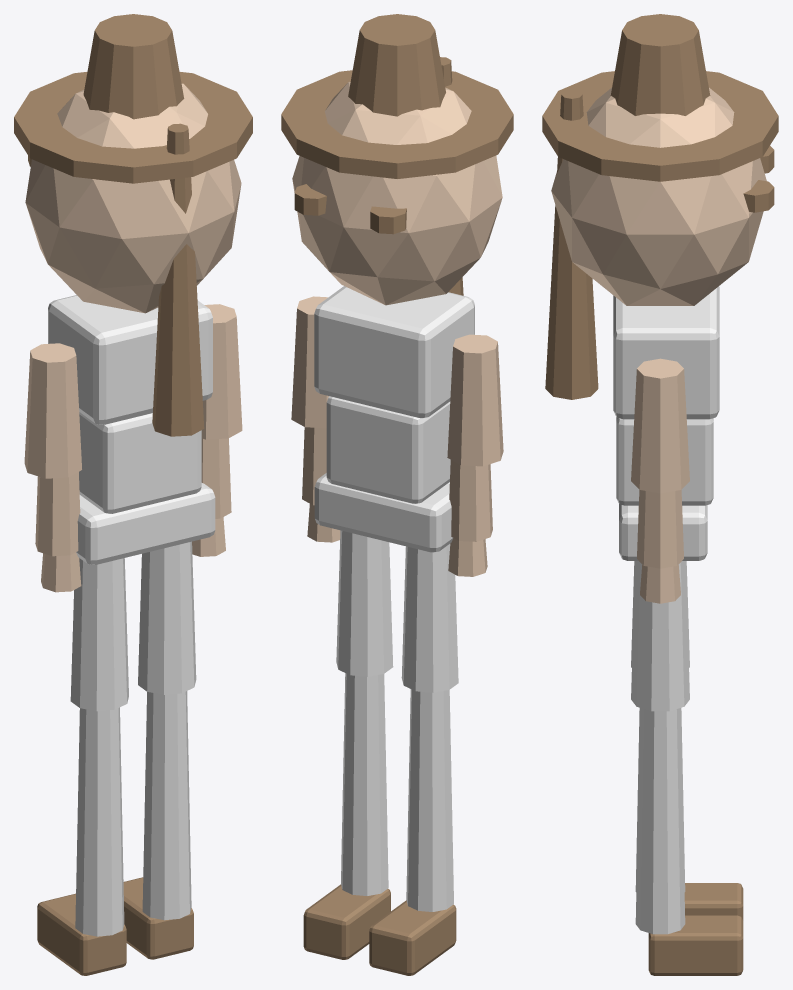
File: Personaje_Femenino.fbx
3 renders of one model, left to right at view 1: azimuth 30°, elevation 25°; view 2: azimuth 150°, elevation 25°; view 3: azimuth 270°, elevation 25°, orthographic. The views are drawn at different scales.
Parts seen in each view (by area): view 1: Personaje_Femenino; view 2: Personaje_Femenino; view 3: Personaje_Femenino.
Part boxes in pixels (bbox=[...]): Personaje_Femenino: bbox=[14, 14, 252, 975]; Personaje_Femenino: bbox=[281, 14, 513, 975]; Personaje_Femenino: bbox=[542, 14, 778, 975].
Bounding box in the file's own units: 0.41 × 1.72 × 0.4.
